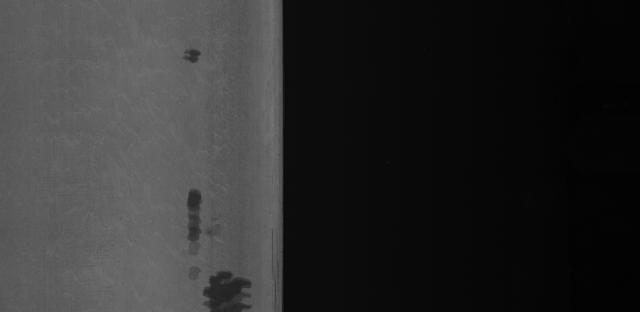oil_spot: (182, 180, 210, 283), (204, 267, 258, 312), (183, 40, 199, 66)
